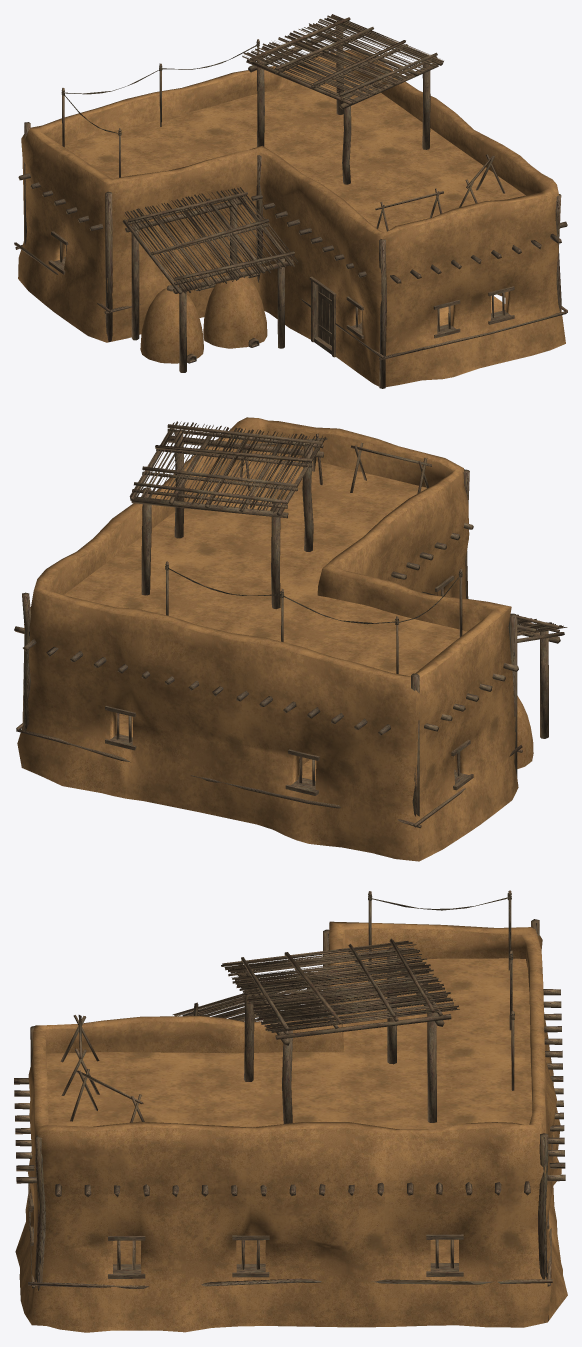
The model's file is adb_house_5.glb.
The picture shows the model from 3 angles, top to bottom: view 1: azimuth 30°, elevation 25°; view 2: azimuth 150°, elevation 25°; view 3: azimuth 270°, elevation 25°; orthographic projection. The views are drawn at different scales.
Parts seen in each view (by area): view 1: adb_house_5; view 2: adb_house_5; view 3: adb_house_5.
Part boxes in pixels (x1,y1,x2,y2): adb_house_5: (14, 14, 567, 388); adb_house_5: (14, 417, 567, 861); adb_house_5: (14, 890, 567, 1332).
Size of the model in its own units: 6.12 by 3.59 by 6.37.
3 materials, 3 textured.
